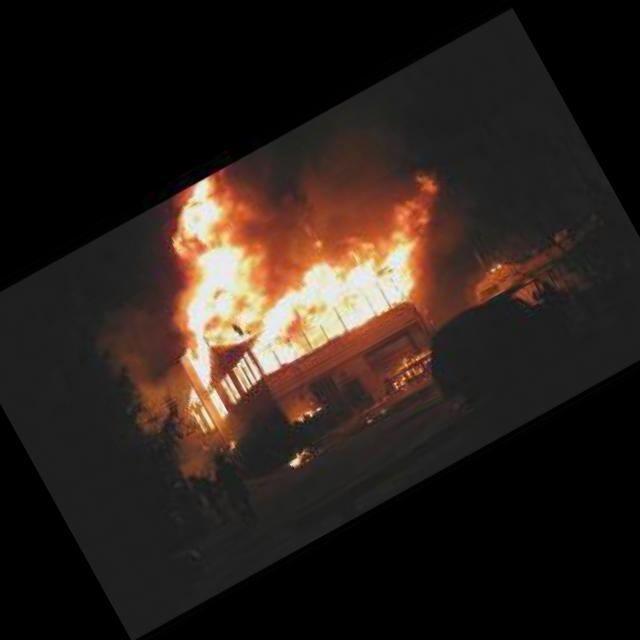fire: (89, 76, 497, 438), (380, 344, 436, 392), (284, 440, 316, 468), (296, 398, 330, 423), (222, 430, 242, 450), (488, 260, 502, 271)
